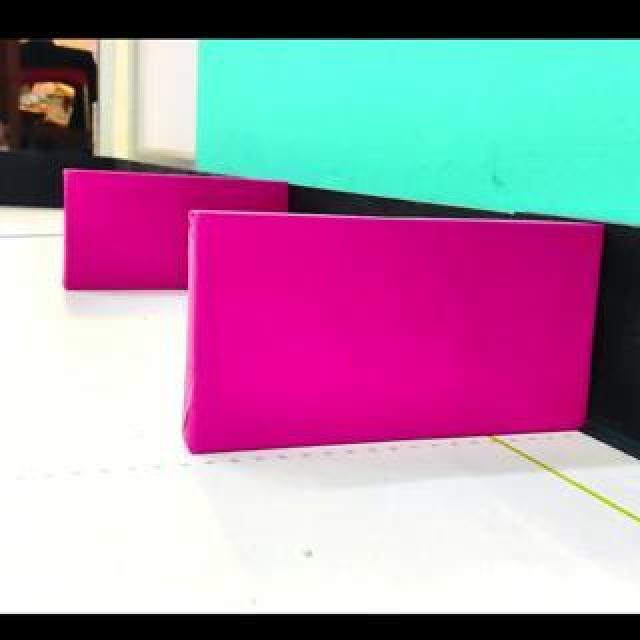xparking: (196, 215, 601, 456), (67, 174, 187, 290)
